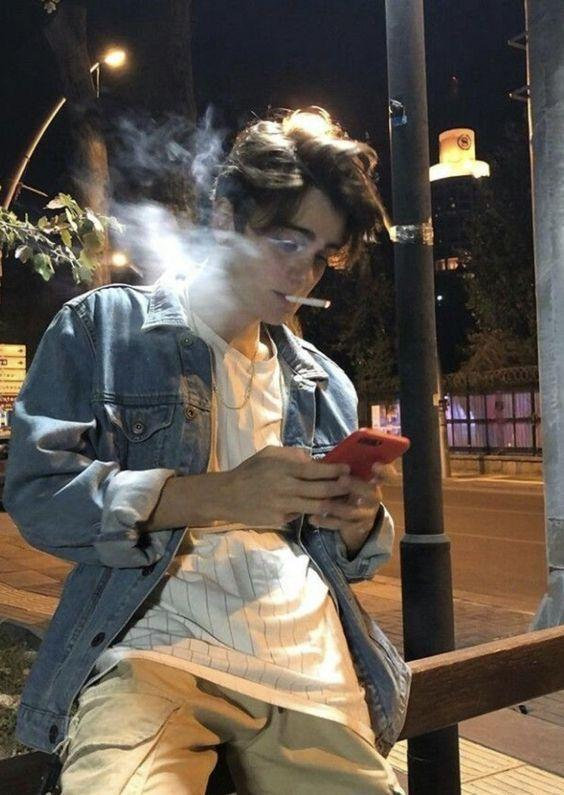cigarette: (285, 296, 331, 308)
